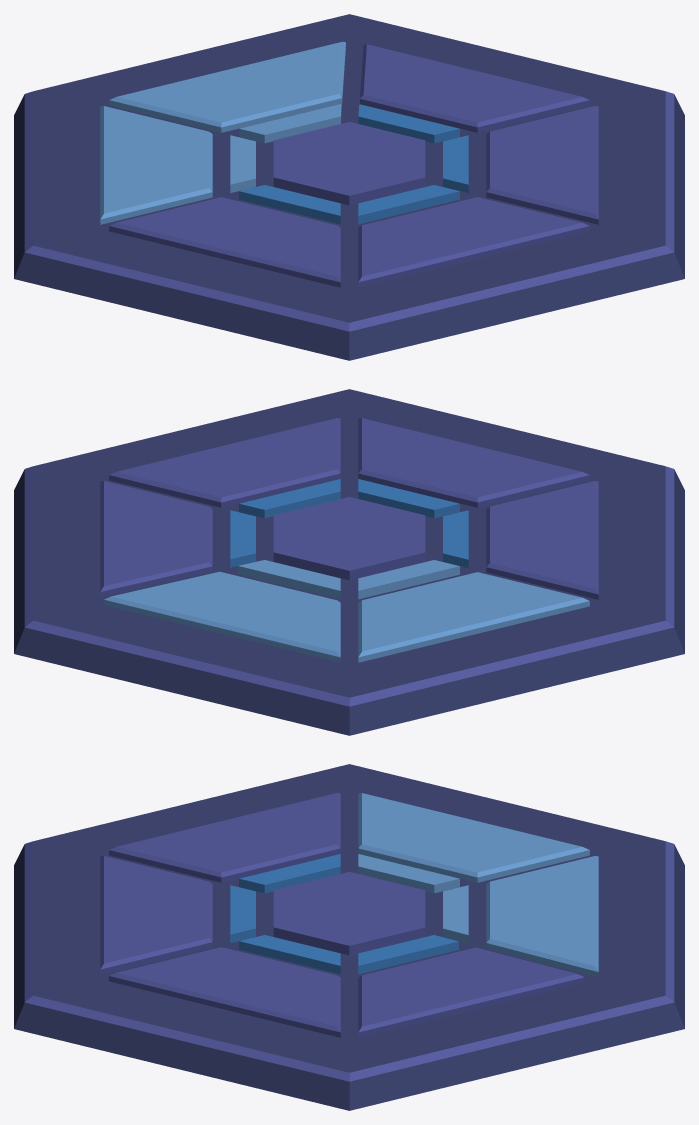
Rendered from CoinMana_01.glb.
The picture shows the model from 3 angles, top to bottom: view 1: azimuth 30°, elevation 25°; view 2: azimuth 150°, elevation 25°; view 3: azimuth 270°, elevation 25°; orthographic projection.
Parts seen in each view (by area): view 1: CoinMana_01; view 2: CoinMana_01; view 3: CoinMana_01.
Boxes of the visible parts, x1,y1,x2,y2 form: CoinMana_01: [14, 14, 684, 360]; CoinMana_01: [14, 389, 684, 735]; CoinMana_01: [14, 764, 684, 1110].
Size of what is drawn, in the model's own units: 0.8319 by 0.0454 by 0.7203.
1 material, 1 textured.
